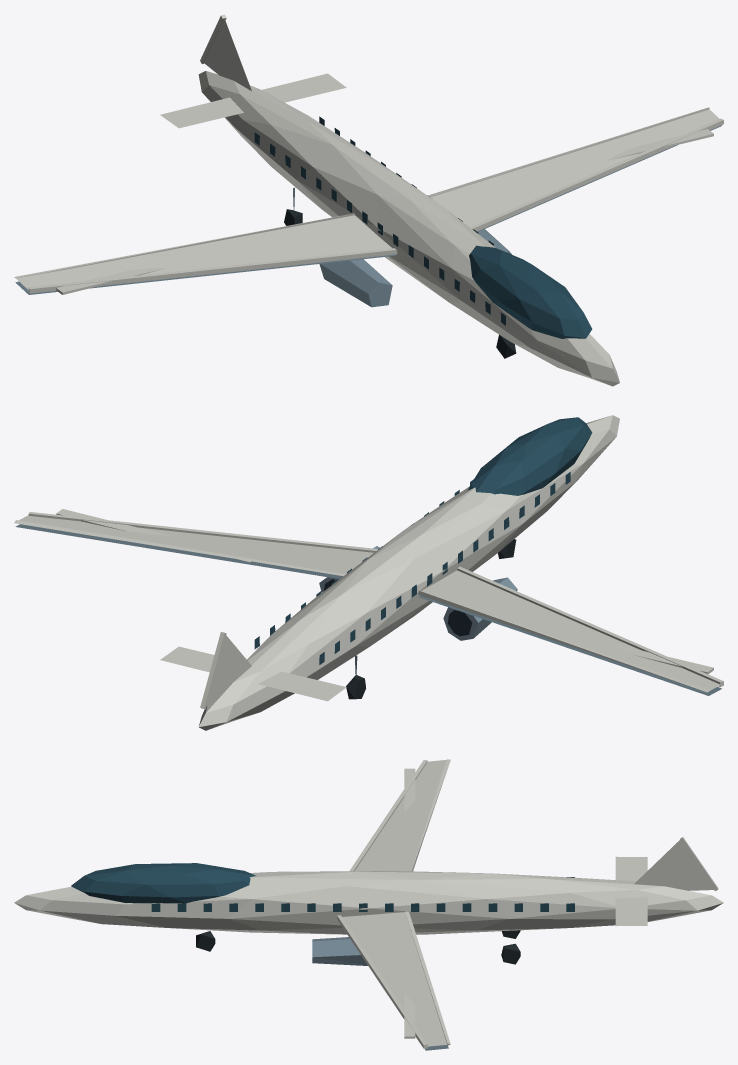
File: aircraft-airliner.lod2.glb
3 views of the same model, one above another, from view 1: azimuth 30°, elevation 25°; view 2: azimuth 150°, elevation 25°; view 3: azimuth 270°, elevation 25° (orthographic). The views are drawn at different scales.
Parts seen in each view (by area): view 1: aircraft-airliner__body, aircraft-airliner__aileron_1, aircraft-airliner__aileron_-1; view 2: aircraft-airliner__body, aircraft-airliner__aileron_1, aircraft-airliner__aileron_-1; view 3: aircraft-airliner__body.
Boxes of the visible parts, bbox=[...] form: aircraft-airliner__body: bbox=[14, 14, 723, 386]; aircraft-airliner__aileron_1: bbox=[606, 129, 713, 160]; aircraft-airliner__aileron_-1: bbox=[56, 267, 167, 294]; aircraft-airliner__body: bbox=[14, 415, 723, 730]; aircraft-airliner__aileron_1: bbox=[56, 509, 250, 562]; aircraft-airliner__aileron_-1: bbox=[610, 643, 713, 674]; aircraft-airliner__body: bbox=[14, 759, 723, 1050].
Bounding box in the file's own units: 19.02 × 3.5 × 20.
